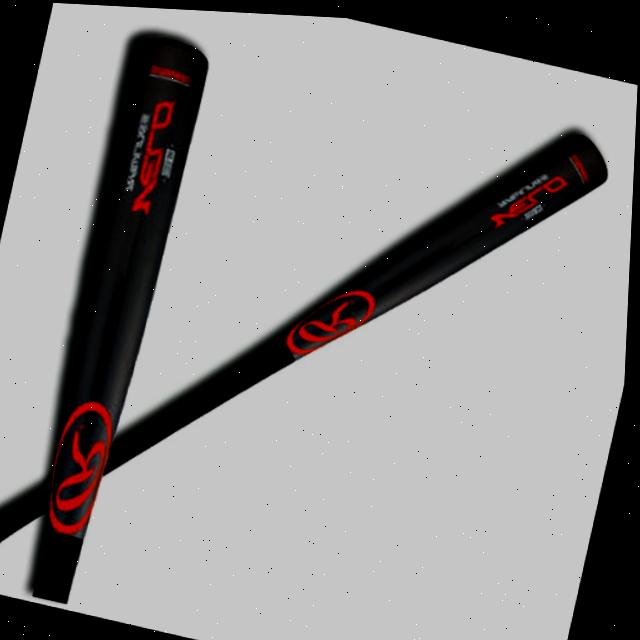baseball bat: (4, 22, 210, 616)
